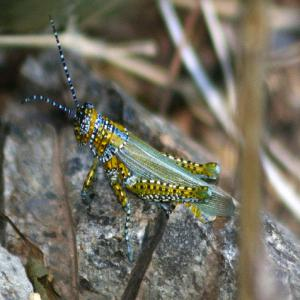locust: (47, 27, 241, 234)
